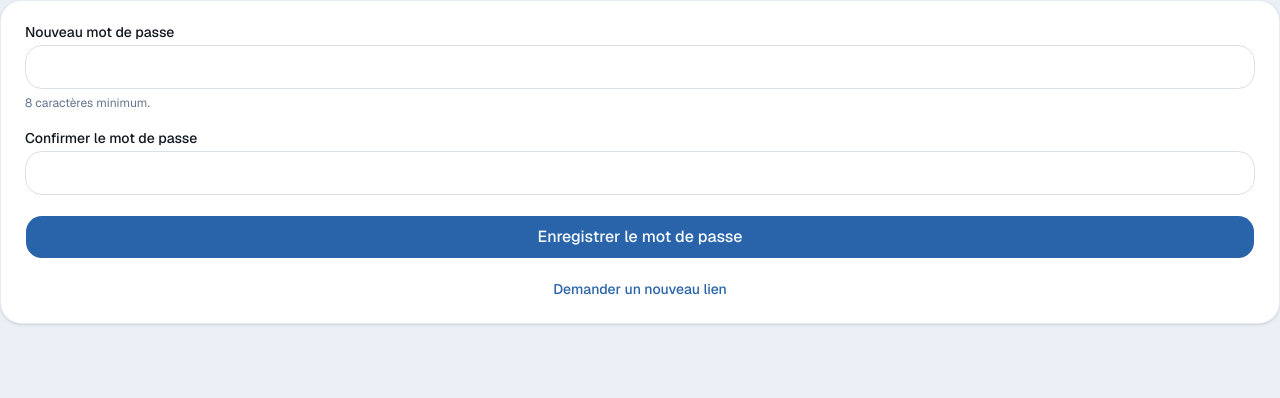
Test: ResetPasswordForm › shows what the server refused and offers a new link
The width and height of the screenshot is (1280, 398).
Type "NouveauMotDePasse2" into the password field labelled "Nouveau mot de passe". click: (640, 67)
box: [25,45,1255,89]
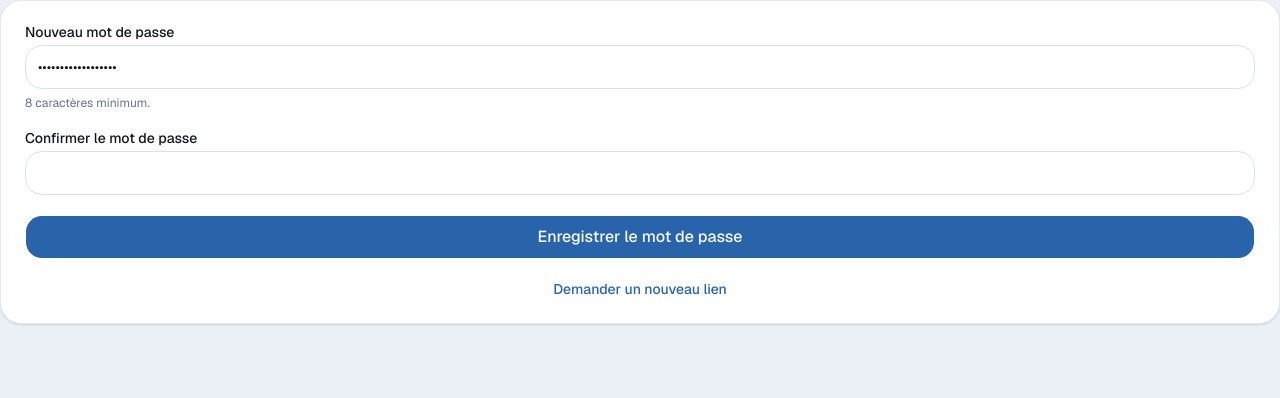
Type "NouveauMotDePasse2" into the password field labelled "Confirmer le mot de passe". click: (640, 173)
box: [25,151,1255,195]
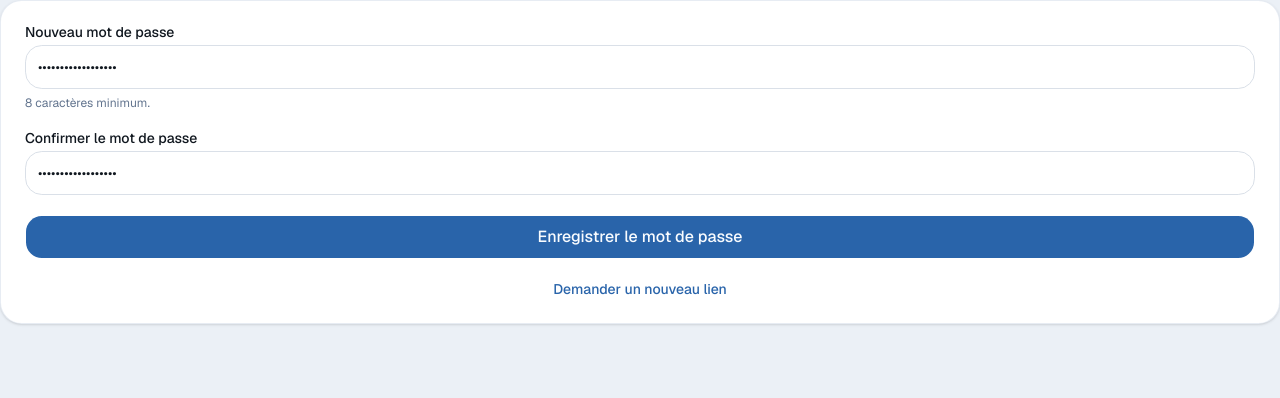
Click the button "Enregistrer le mot de passe". click: (640, 237)
box: [25,215,1255,259]
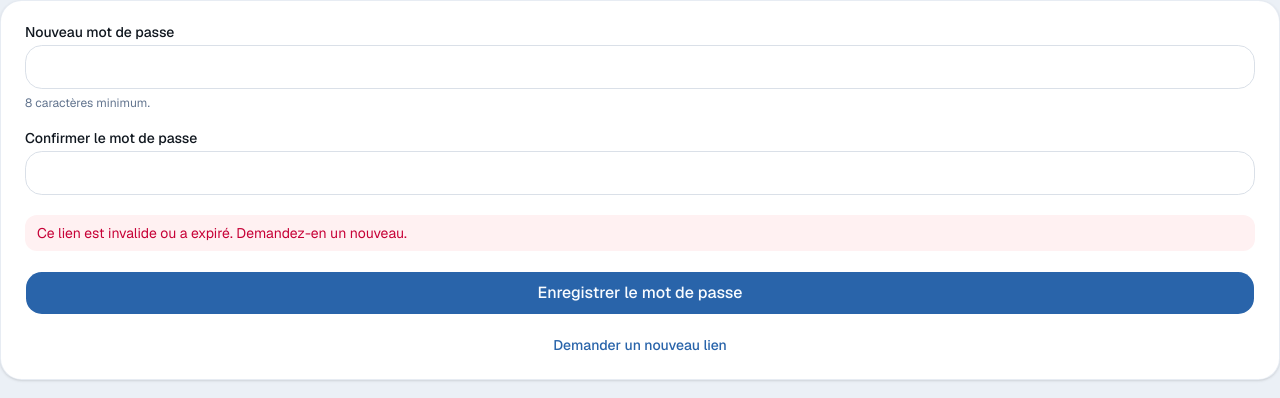
Expected: the message shows "invalide ou a expiré", [37,224,407,242]
